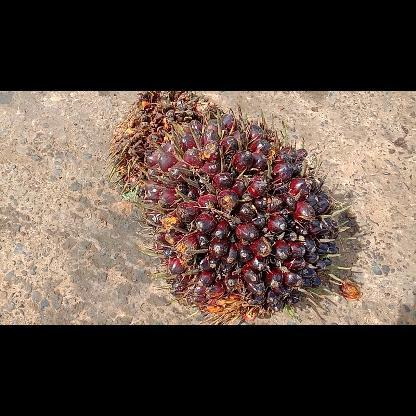Kurang masak: (135, 102, 355, 324)
TBS abnormal: (105, 91, 223, 204)
